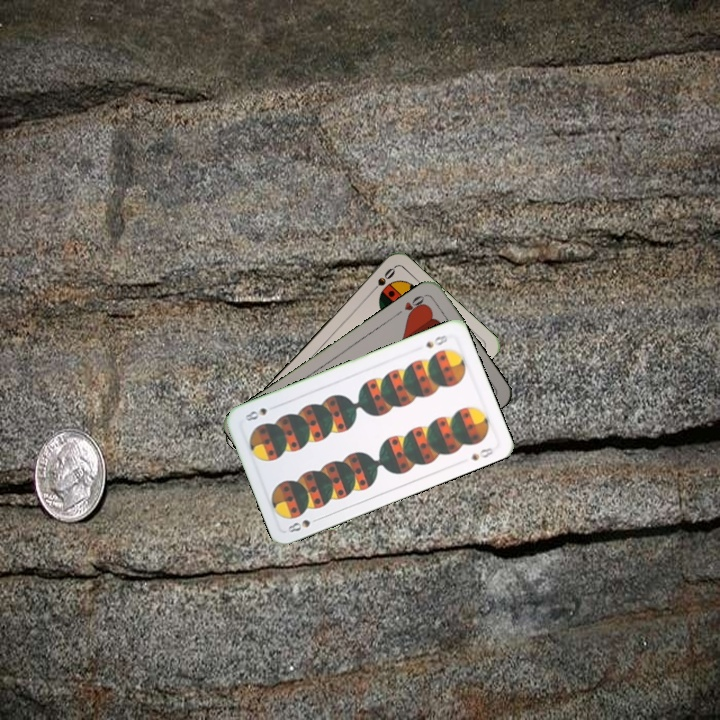HO: (392, 291, 428, 319)
S8: (283, 513, 323, 535), (421, 331, 451, 351)
SO: (366, 264, 398, 296)
